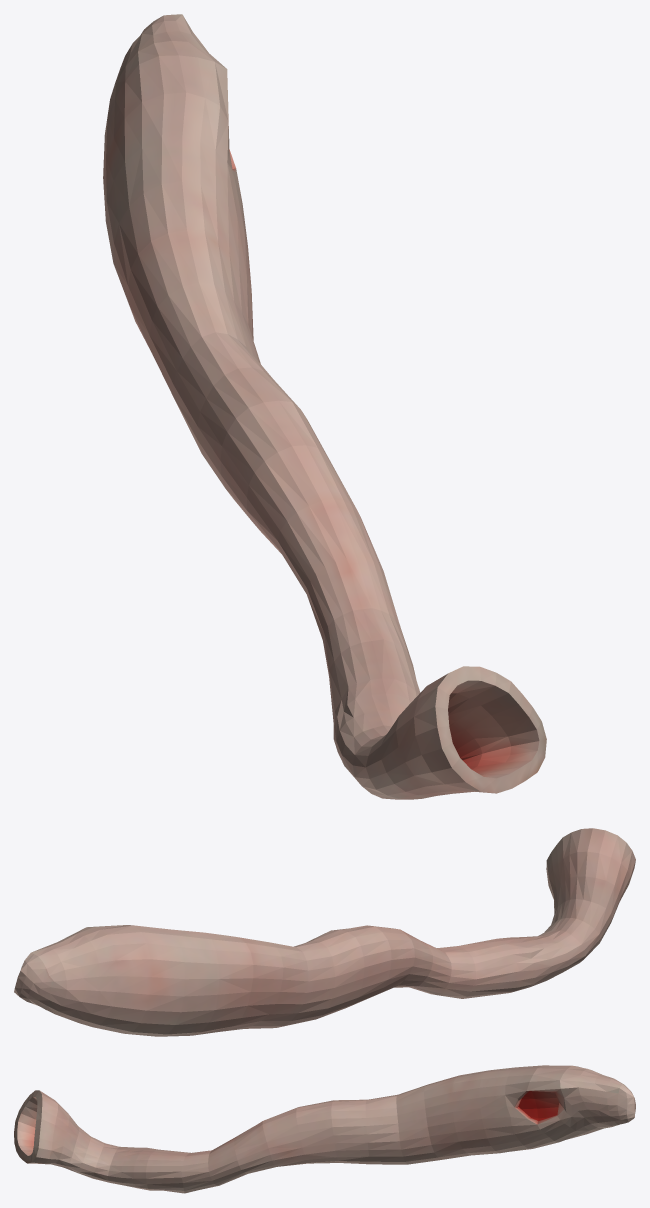
The model's file is ileum_LP.glb.
3 views of the same model, one above another, from view 1: azimuth 30°, elevation 25°; view 2: azimuth 150°, elevation 25°; view 3: azimuth 270°, elevation 25° (orthographic). The views are drawn at different scales.
Parts seen in each view (by area): view 1: ileum_LP; view 2: ileum_LP; view 3: ileum_LP.
Boxes of the visible parts, x1=… form: ileum_LP: x1=103, y1=14, x2=546, y2=799; ileum_LP: x1=14, y1=828, x2=635, y2=1036; ileum_LP: x1=14, y1=1065, x2=635, y2=1193.
Size of the model in its own units: 0.000778 by 0.000701 by 0.0023.
1 material, 1 textured.
